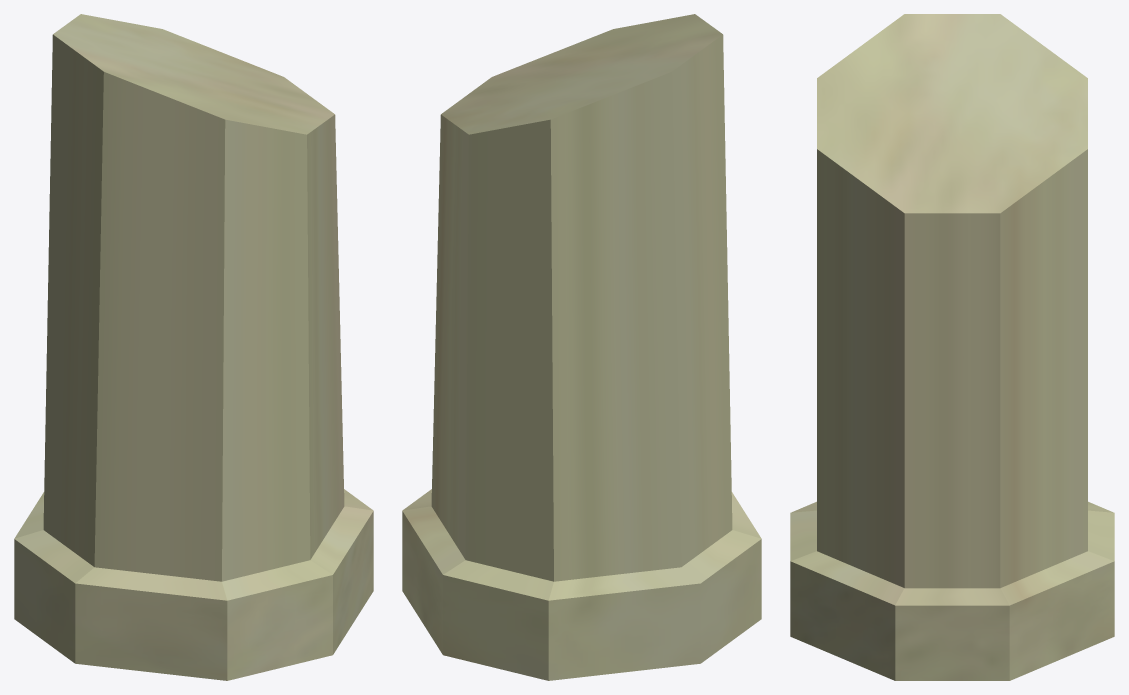
File: Pillar 1.fbx
3 renders of one model, left to right at view 1: azimuth 30°, elevation 25°; view 2: azimuth 150°, elevation 25°; view 3: azimuth 270°, elevation 25°, orthographic. The views are drawn at different scales.
Visible parts, largest first — view 1: Cube; view 2: Cube; view 3: Cube.
Boxes of the visible parts, bbox=[...] form: Cube: bbox=[14, 14, 373, 680]; Cube: bbox=[402, 14, 761, 680]; Cube: bbox=[790, 14, 1114, 680].
Size of the model in its own units: 79.26 by 147 by 79.26.
Materials: 1 (1 with a texture image).
